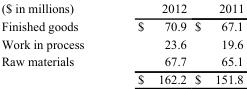table: (0, 1, 243, 85)
table column: (0, 1, 110, 85), (110, 1, 190, 85), (190, 1, 243, 85)
table column header: (0, 1, 243, 16)
table row: (0, 16, 243, 34), (0, 34, 243, 52), (0, 52, 243, 69), (0, 69, 243, 85), (0, 1, 243, 16)
